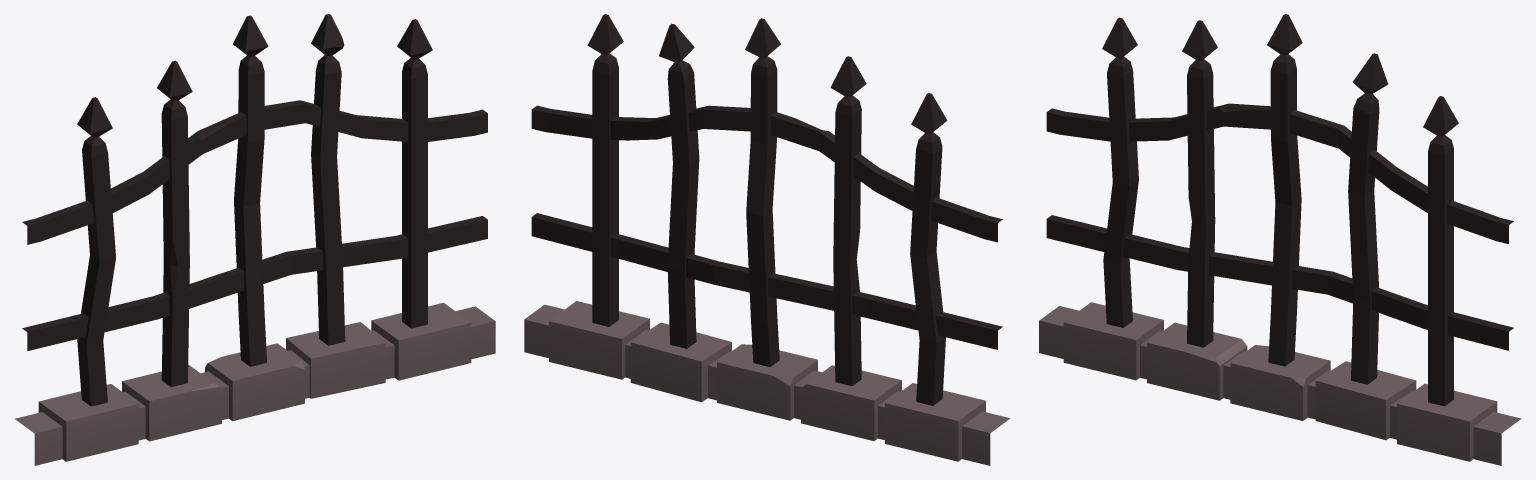
Rendered from fenceASection4.glb.
3 renders of one model, left to right at view 1: azimuth 30°, elevation 25°; view 2: azimuth 150°, elevation 25°; view 3: azimuth 330°, elevation 25°, orthographic.
Visible parts, largest first — view 1: fenceASection4; view 2: fenceASection4; view 3: fenceASection4.
Boxes of the visible parts, <box> form: fenceASection4: <box>14,14,495,465</box>; fenceASection4: <box>524,14,1010,465</box>; fenceASection4: <box>1039,14,1521,465</box>.
Size of the model in its own units: 2.71 by 2.15 by 0.3132.
Materials: 1 (1 with a texture image).
